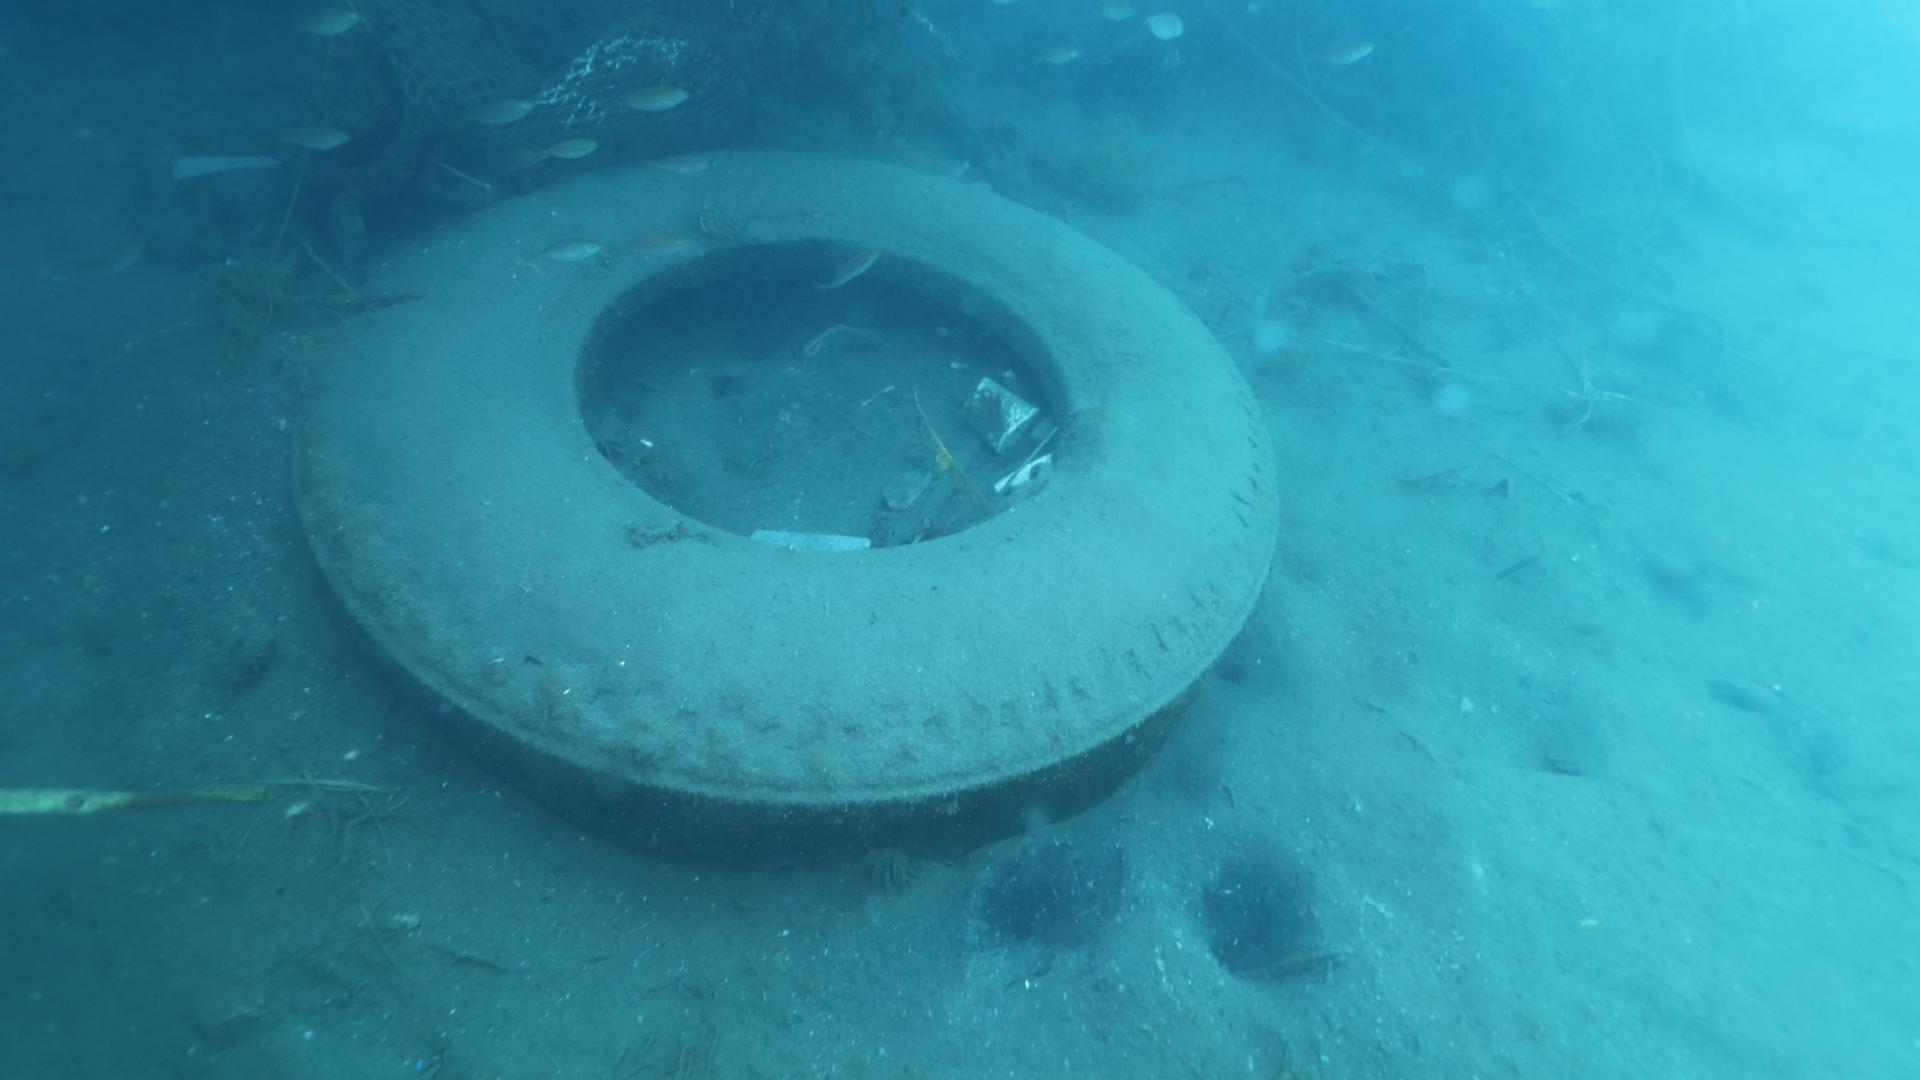tire: (290, 145, 1282, 870)
